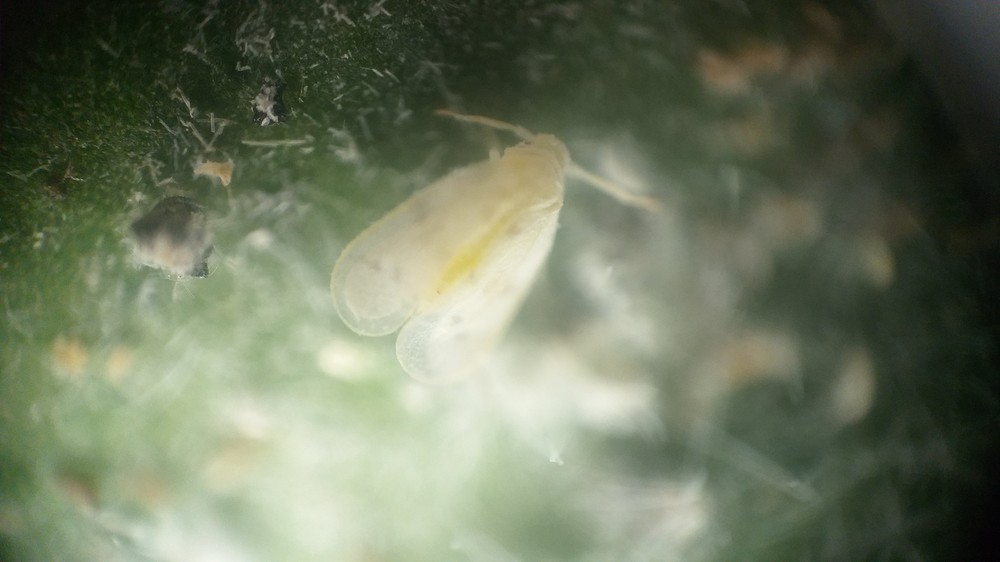Mosca Blanca: (300, 97, 689, 410)
